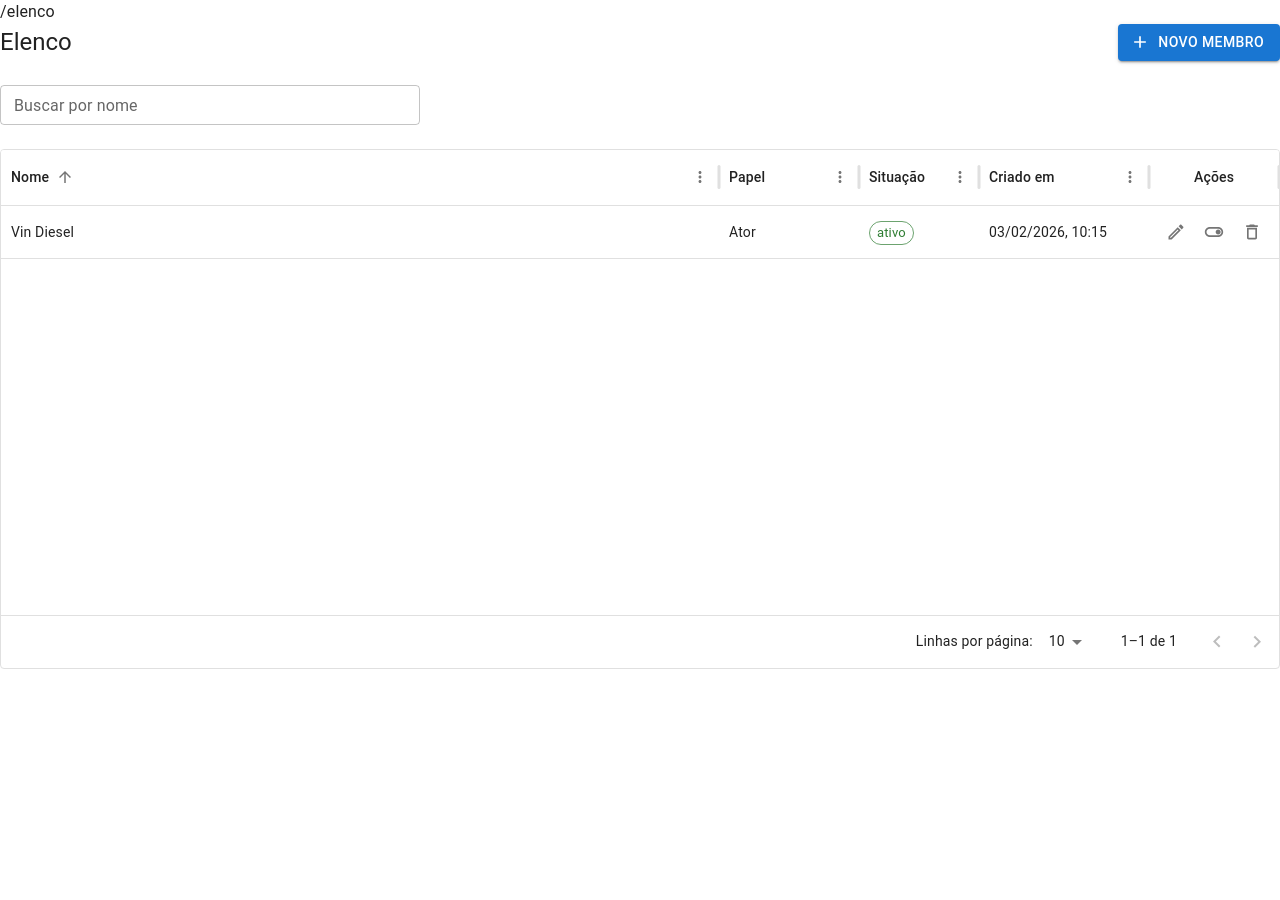
Scenario: CastMemberList › given409NaRemocao_whenConfirma_thenMandaDesativar
The image size is (1280, 900).
Check: the text "Vin Diesel" is shown, box [11,224,74,240]
Click the menu item named "Remover" at x=1252, y=232, box [1237,217,1267,247]
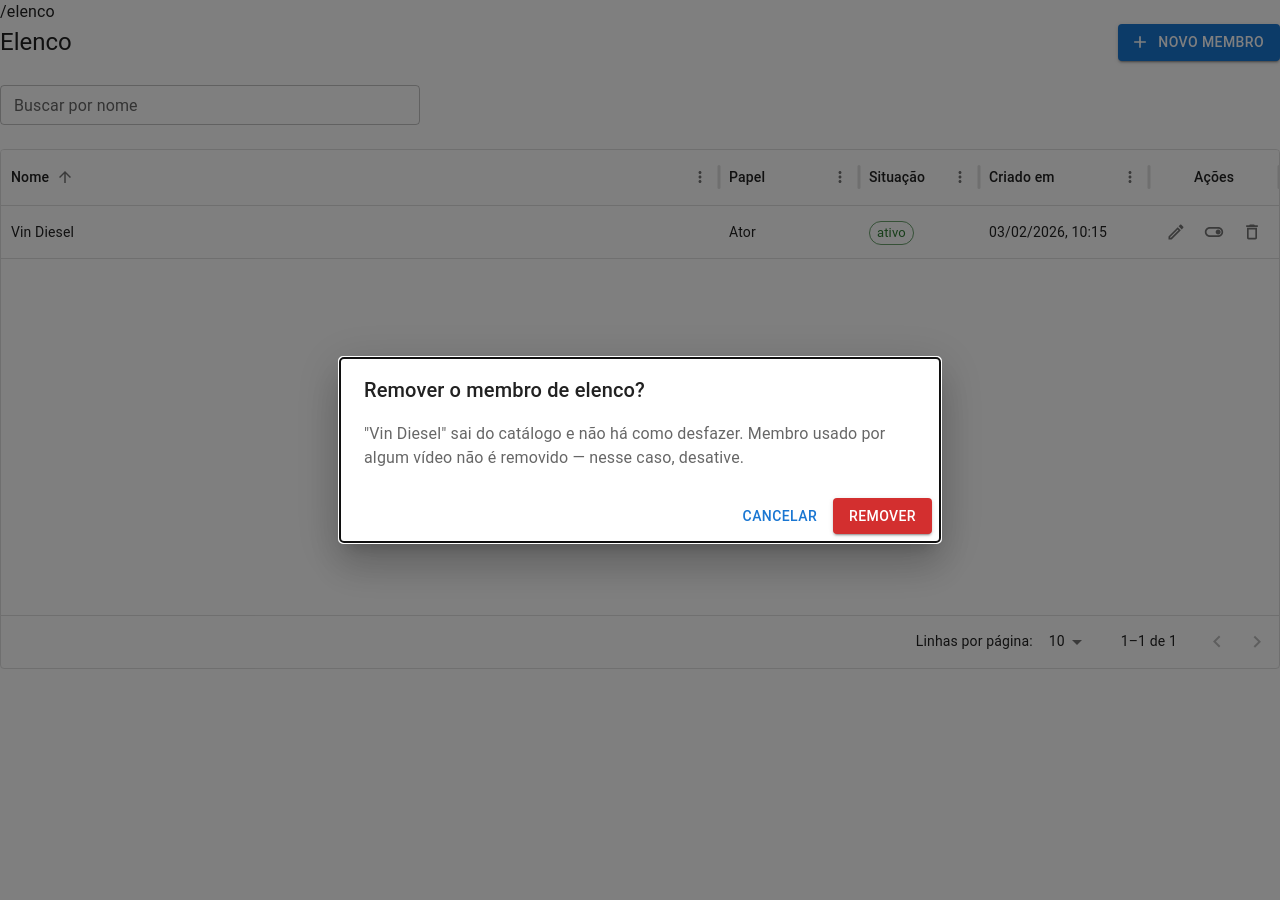
Click the button "Remover" at x=882, y=516, box [833,498,932,534]
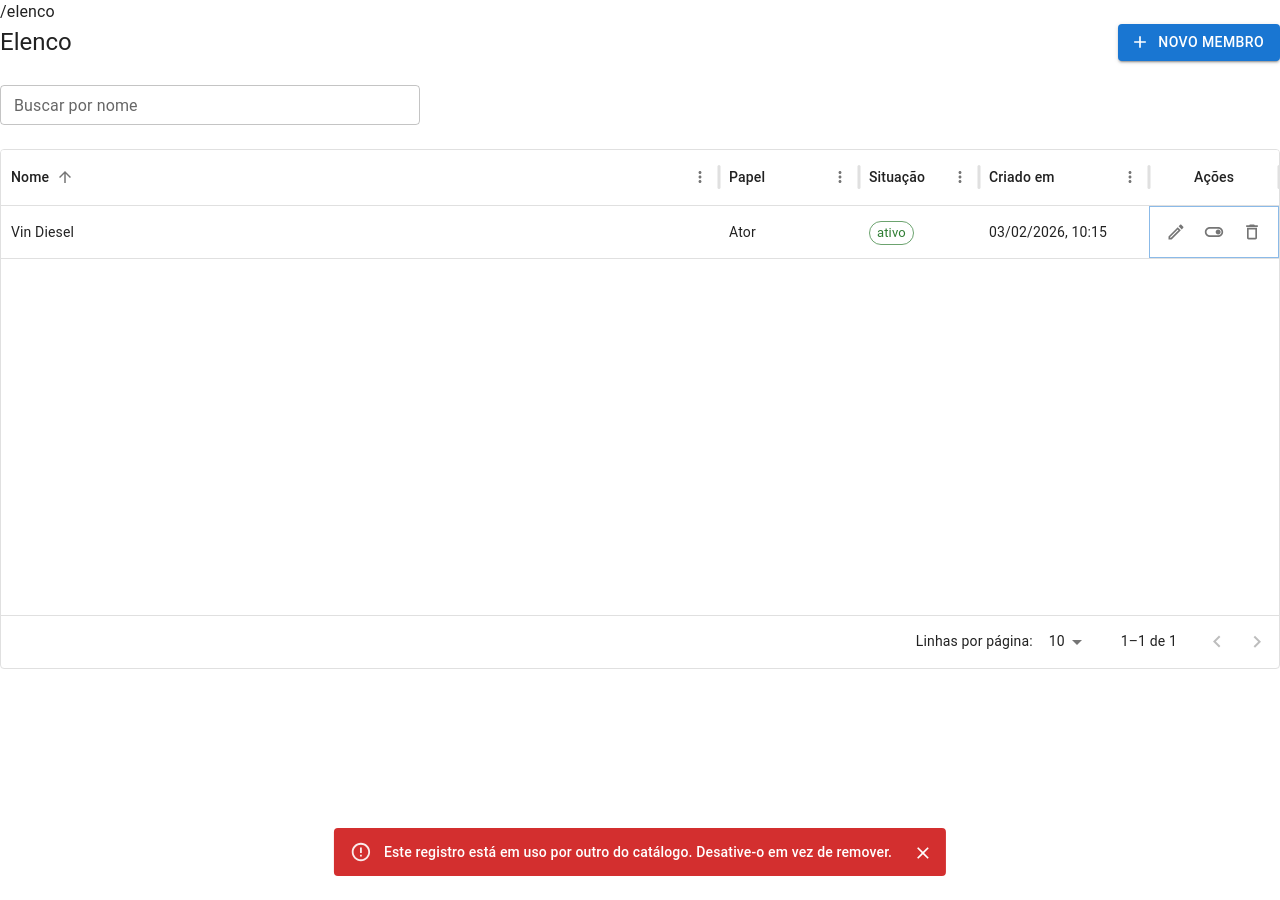
Check: the text "Desative-o em vez de remover" is shown, box [384,844,892,860]
